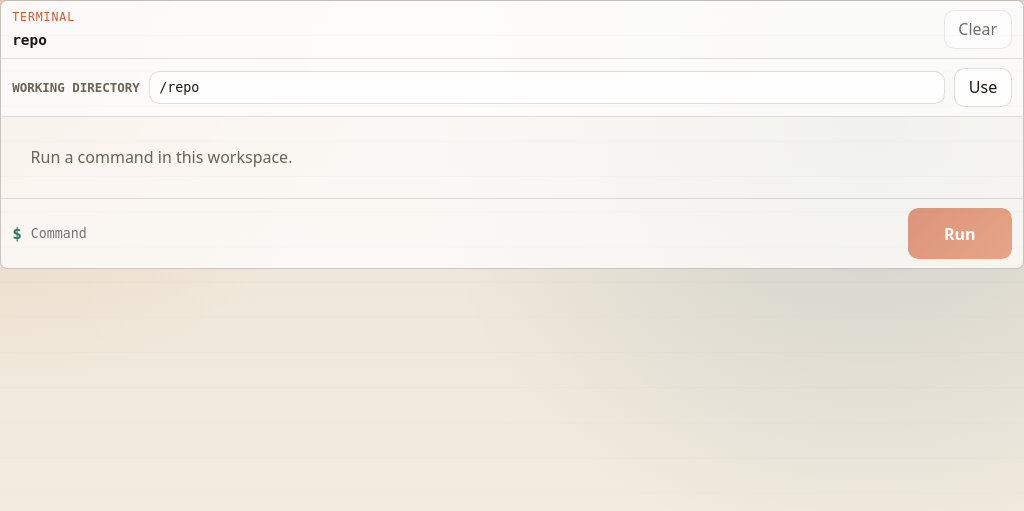
TerminalPanel › records command errors
Type "rm -rf build" into the field named "Terminal command".
click(465, 234); type("rm -rf build")  # box [31,216,899,251]
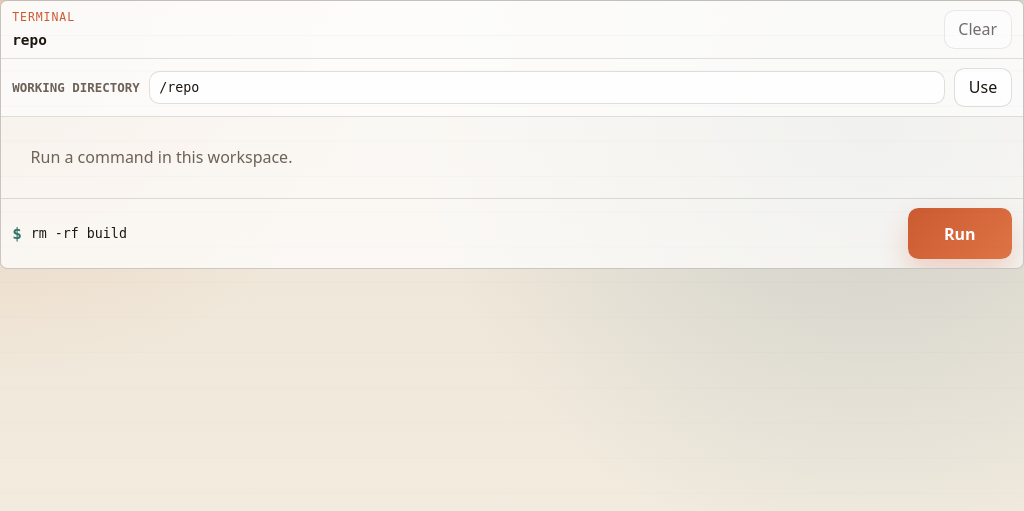
Click the button "Run".
click(960, 234)  # box [908,208,1012,259]
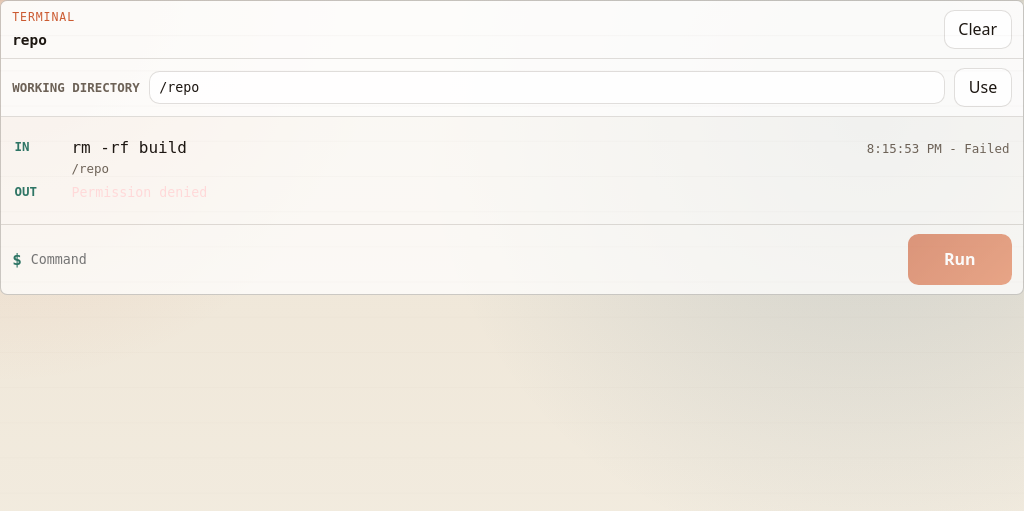
Check: the text "Permission denied" is shown, box [71,185,207,200]
Check: the text "8:15:53 PM - Failed" is shown, box [867,141,1010,156]
